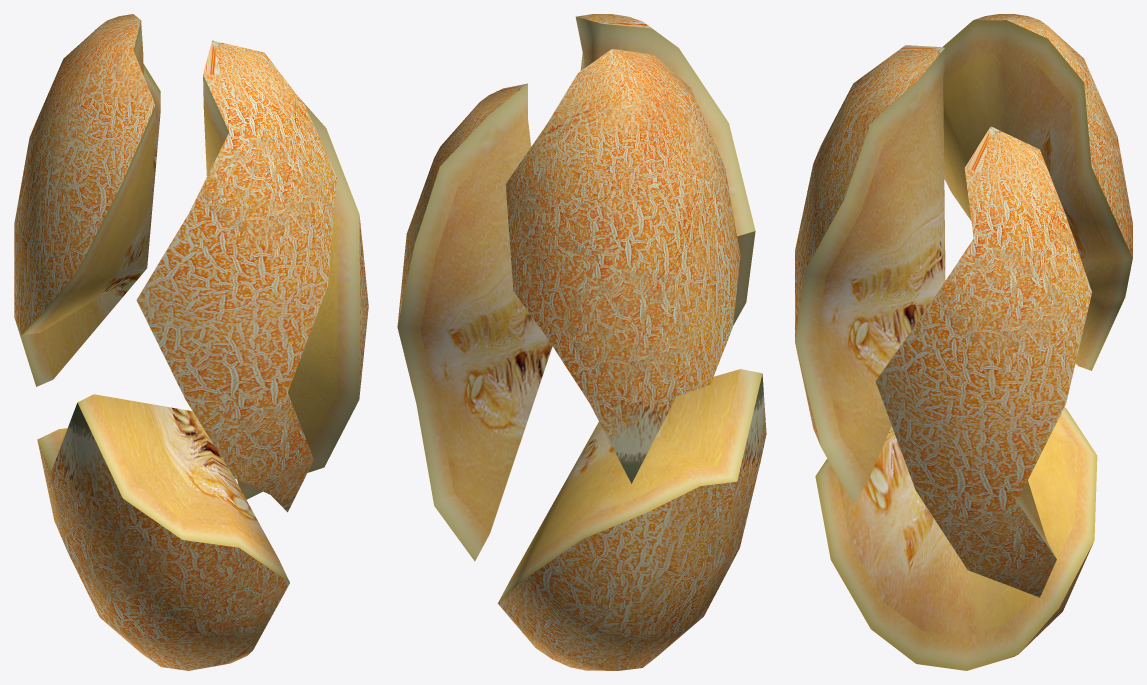
File: Melon_broken.FBX
The picture shows the model from 3 angles, left to right: view 1: azimuth 30°, elevation 25°; view 2: azimuth 150°, elevation 25°; view 3: azimuth 270°, elevation 25°; orthographic projection.
Parts seen in each view (by area): view 1: Melon_pt02, Melon_pt01, Melon_pt04, Melon_pt03; view 2: Melon_pt04, Melon_pt01, Melon_pt03, Melon_pt02; view 3: Melon_pt03, Melon_pt02, Melon_pt01, Melon_pt04.
Boxes of the visible parts, <box> form: Melon_pt02: <box>136,40,336,512</box>; Melon_pt01: <box>37,394,289,670</box>; Melon_pt04: <box>14,14,160,386</box>; Melon_pt03: <box>237,97,368,499</box>; Melon_pt04: <box>505,49,740,483</box>; Melon_pt01: <box>498,369,766,670</box>; Melon_pt03: <box>397,83,552,561</box>; Melon_pt02: <box>575,14,755,325</box>; Melon_pt03: <box>875,126,1091,597</box>; Melon_pt02: <box>795,45,945,504</box>; Melon_pt01: <box>815,407,1097,670</box>; Melon_pt04: <box>943,14,1132,370</box>.
Bounding box in the file's own units: 75.44 × 149 × 72.66.
